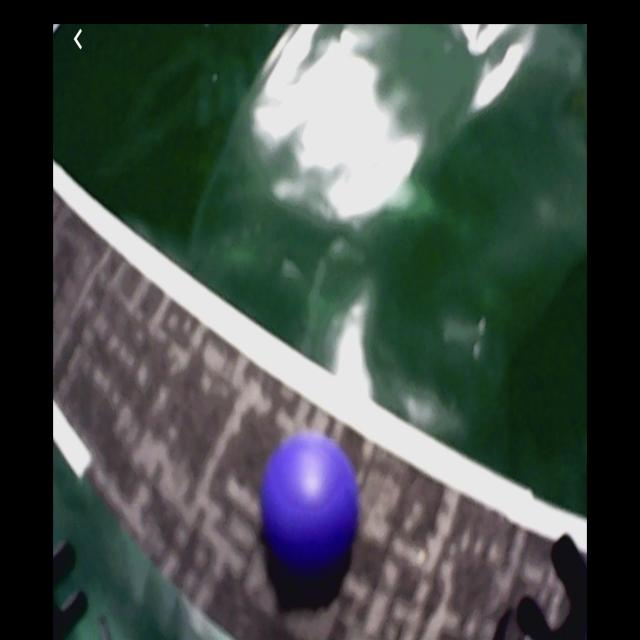ball: (265, 434, 359, 575)
